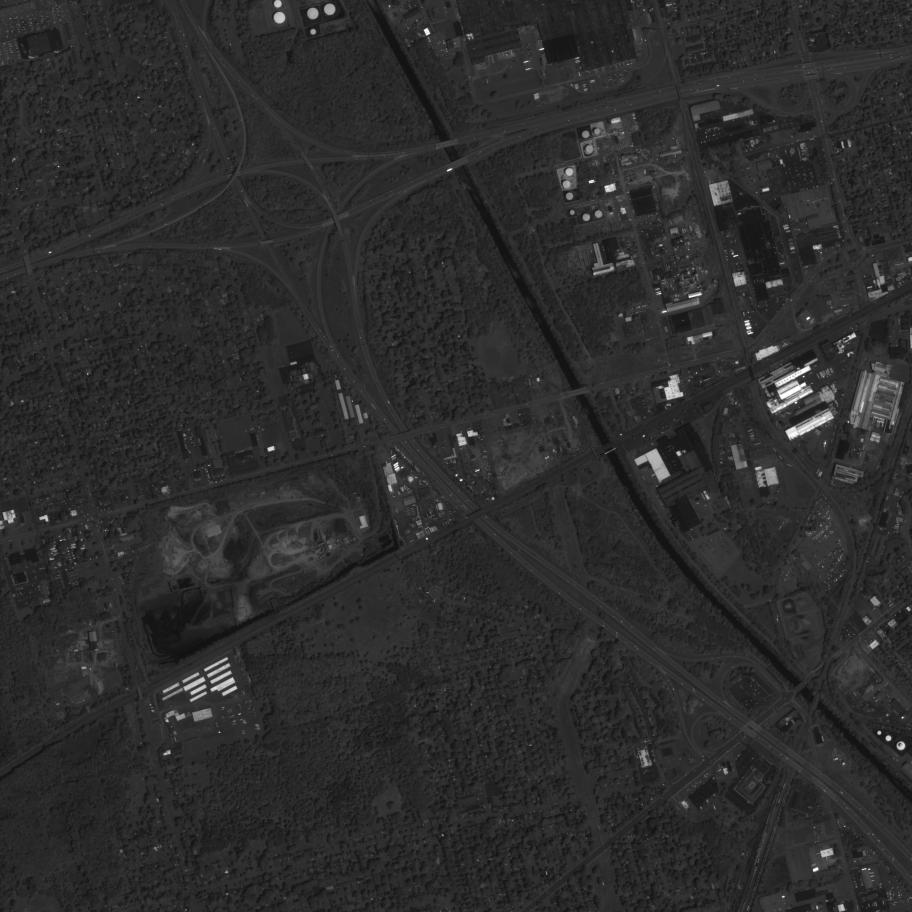storage-tank: (273, 12, 286, 24), (307, 7, 319, 20), (324, 3, 336, 16), (897, 740, 906, 751), (565, 167, 574, 176), (562, 180, 571, 189), (582, 213, 591, 222), (586, 144, 594, 154), (594, 210, 604, 218), (582, 130, 590, 139), (565, 193, 574, 201), (595, 128, 601, 135), (886, 735, 892, 742), (310, 29, 316, 35), (877, 730, 882, 736), (570, 210, 575, 215)
